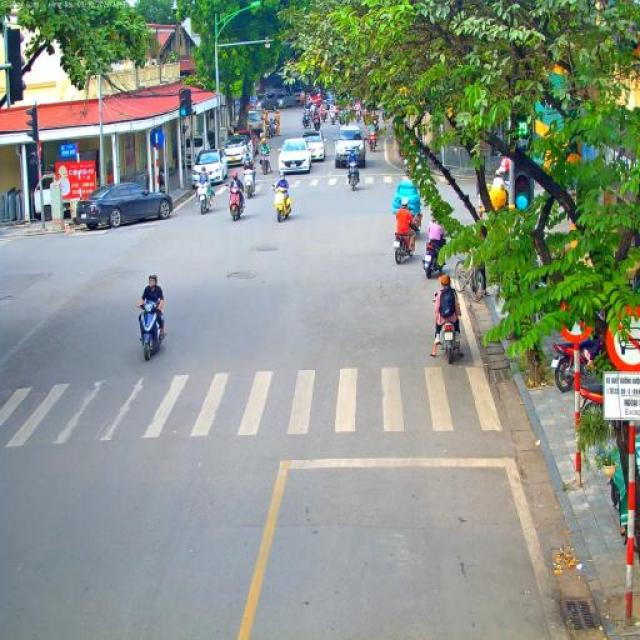car: (75, 182, 174, 229), (332, 125, 367, 169), (192, 149, 228, 185), (219, 135, 252, 174), (278, 137, 312, 174), (302, 129, 326, 163), (233, 129, 255, 155), (260, 92, 286, 112), (280, 91, 296, 108), (293, 90, 302, 106)
motorcycle: (548, 334, 602, 392), (432, 294, 464, 364), (136, 299, 166, 361), (422, 236, 447, 280), (392, 228, 418, 264), (272, 185, 292, 223), (227, 186, 246, 222), (194, 180, 214, 214), (578, 383, 604, 409), (242, 167, 256, 199), (346, 161, 360, 191), (258, 150, 272, 174), (411, 213, 423, 235), (368, 129, 378, 153), (301, 112, 311, 128), (363, 116, 371, 133), (330, 109, 338, 125), (353, 110, 362, 124), (267, 123, 275, 138), (314, 116, 321, 132), (339, 114, 345, 126)
truck: (247, 111, 263, 138)
